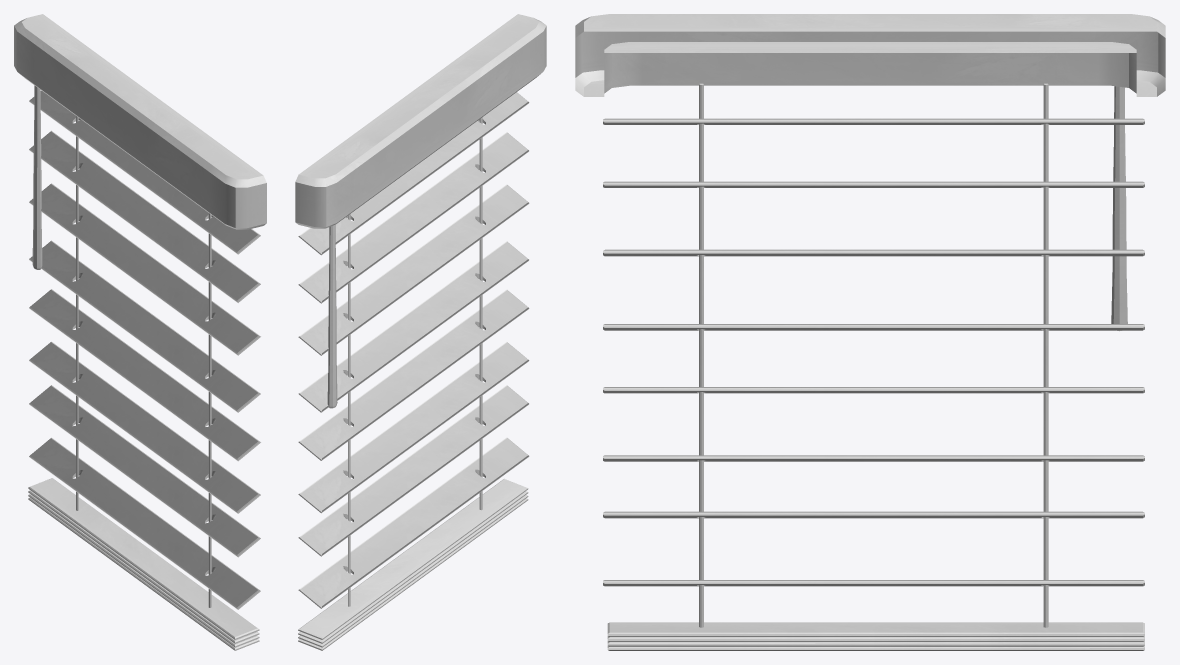
File: SM_Blinds.fbx
3 renders of one model, left to right at view 1: azimuth 30°, elevation 25°; view 2: azimuth 150°, elevation 25°; view 3: azimuth 270°, elevation 25°, orthographic. The views are drawn at different scales.
Parts seen in each view (by area): view 1: polySurface30; view 2: polySurface30; view 3: polySurface30.
Part boxes in pixels (x1,y1,x2,y2): polySurface30: (14, 14, 266, 650); polySurface30: (295, 14, 546, 650); polySurface30: (575, 14, 1165, 650).
Size of the model in its own units: 21.55 by 263 by 227.
